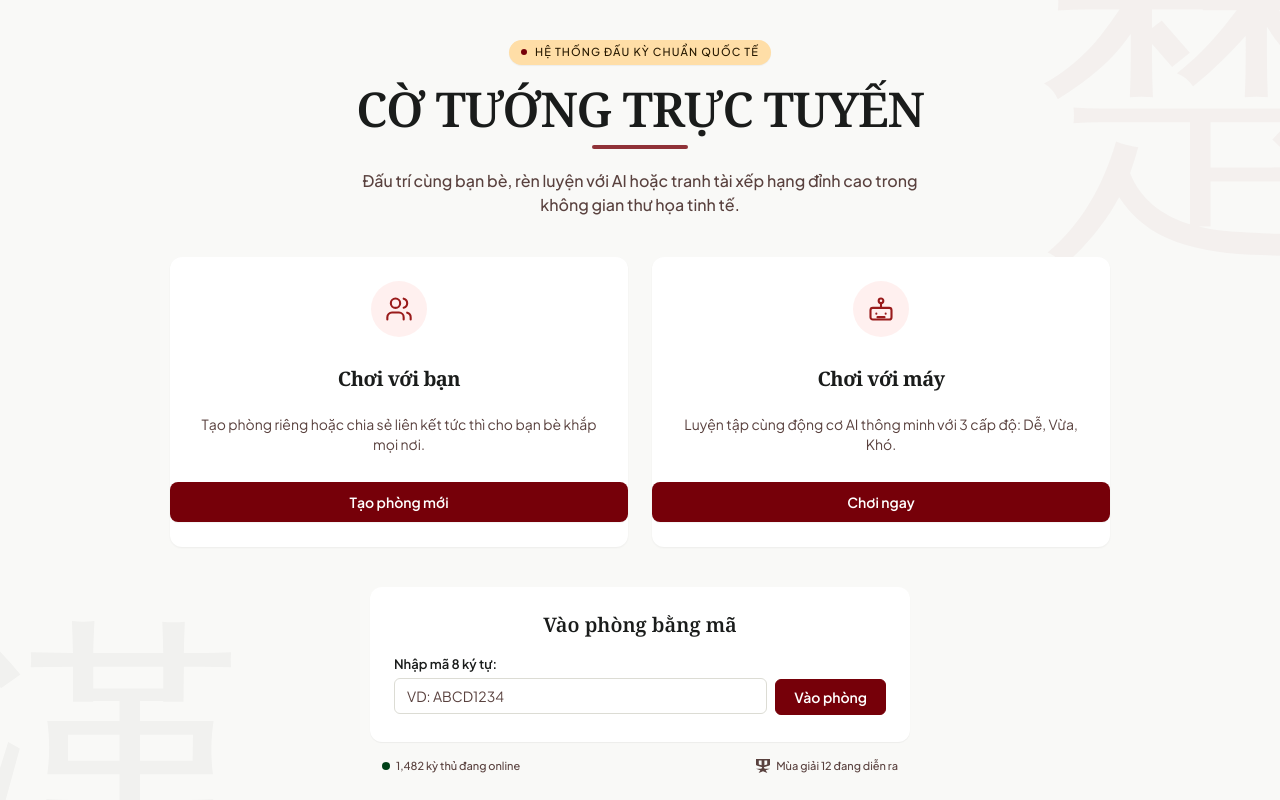
Scenario: HomePage › clears the error when the user starts typing again
Trigger an error first
Click the button "Vào phòng" at (831, 696), box [775, 678, 886, 714]
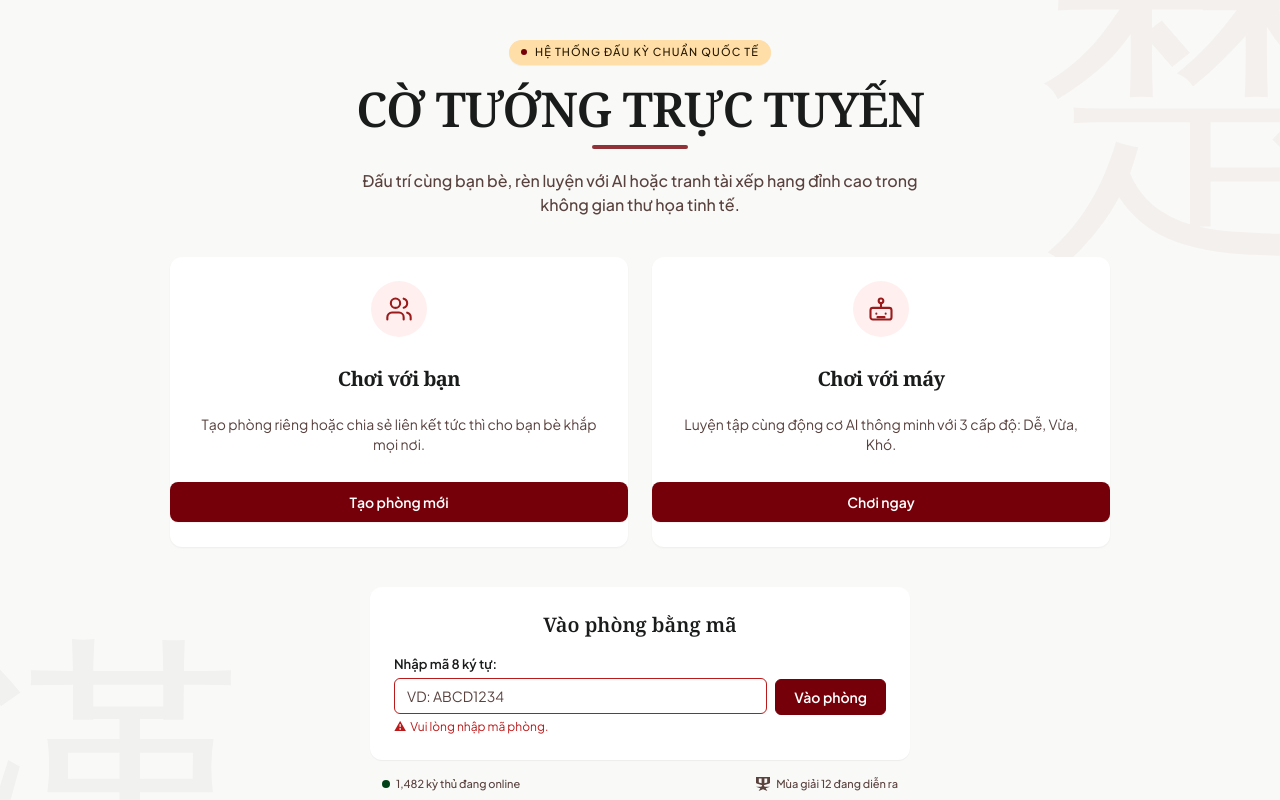
Expected: the text "Vui lòng nhập mã phòng." is shown, [410, 719, 548, 734]
Start typing → error should clear
Type "A" into the field named "Vào phòng bằng mã" at (581, 696), box [394, 678, 767, 714]
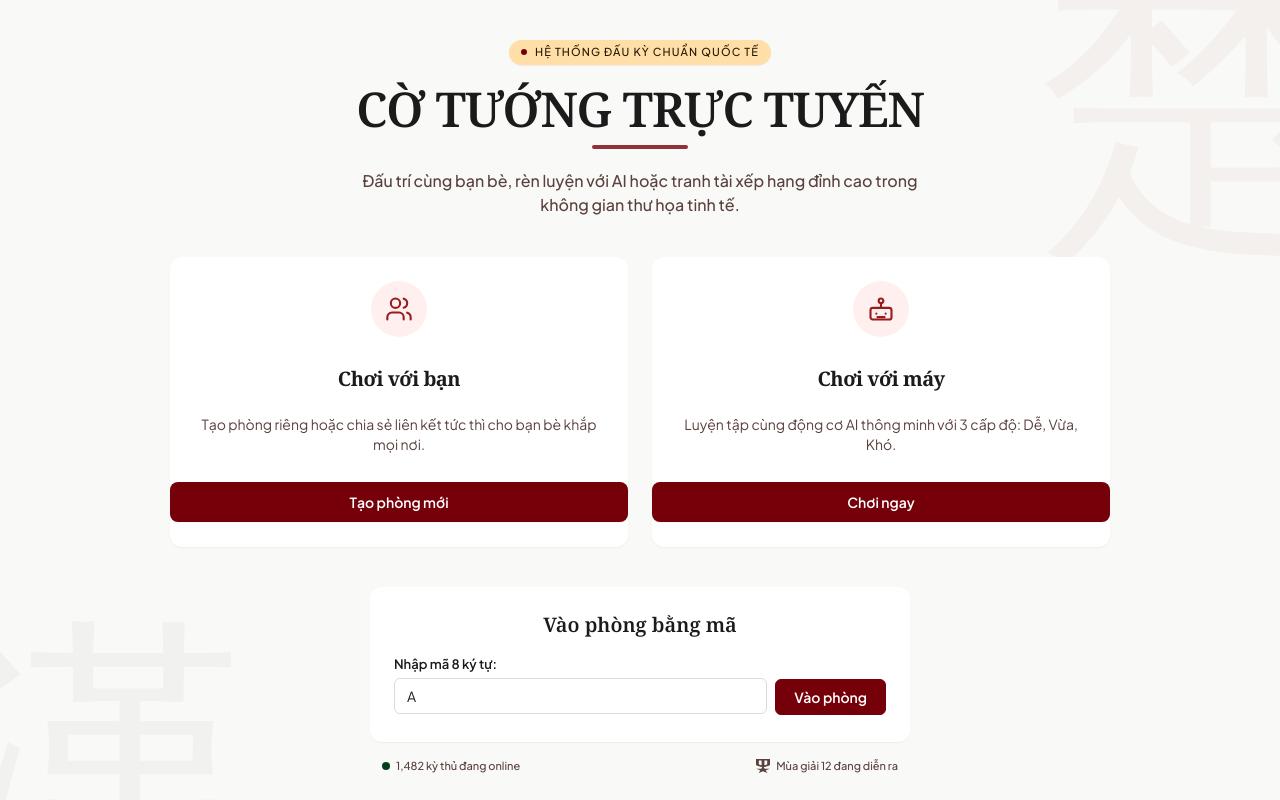
Expected: the text "Vui lòng nhập mã phòng." is gone
